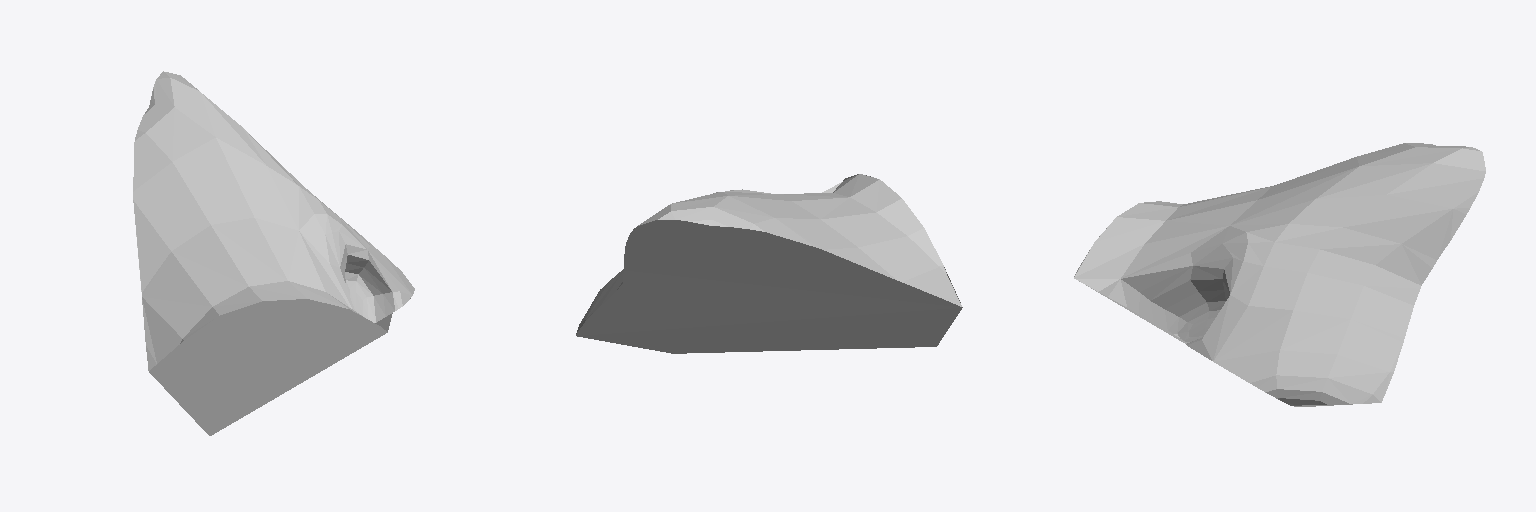
Rendered from FracturePartFracture_006.obj.
The picture shows the model from 3 angles: view 1: azimuth 30°, elevation 25°; view 2: azimuth 150°, elevation 25°; view 3: azimuth 270°, elevation 25°; orthographic projection.
Visible parts, largest first — view 1: Fracture.006; view 2: Fracture.006; view 3: Fracture.006.
Part boxes in pixels (bbox=[...]): Fracture.006: bbox=[133, 71, 414, 435]; Fracture.006: bbox=[576, 174, 962, 353]; Fracture.006: bbox=[1074, 143, 1485, 406].
Size of the model in its own units: 1.44 by 1 by 1.7.